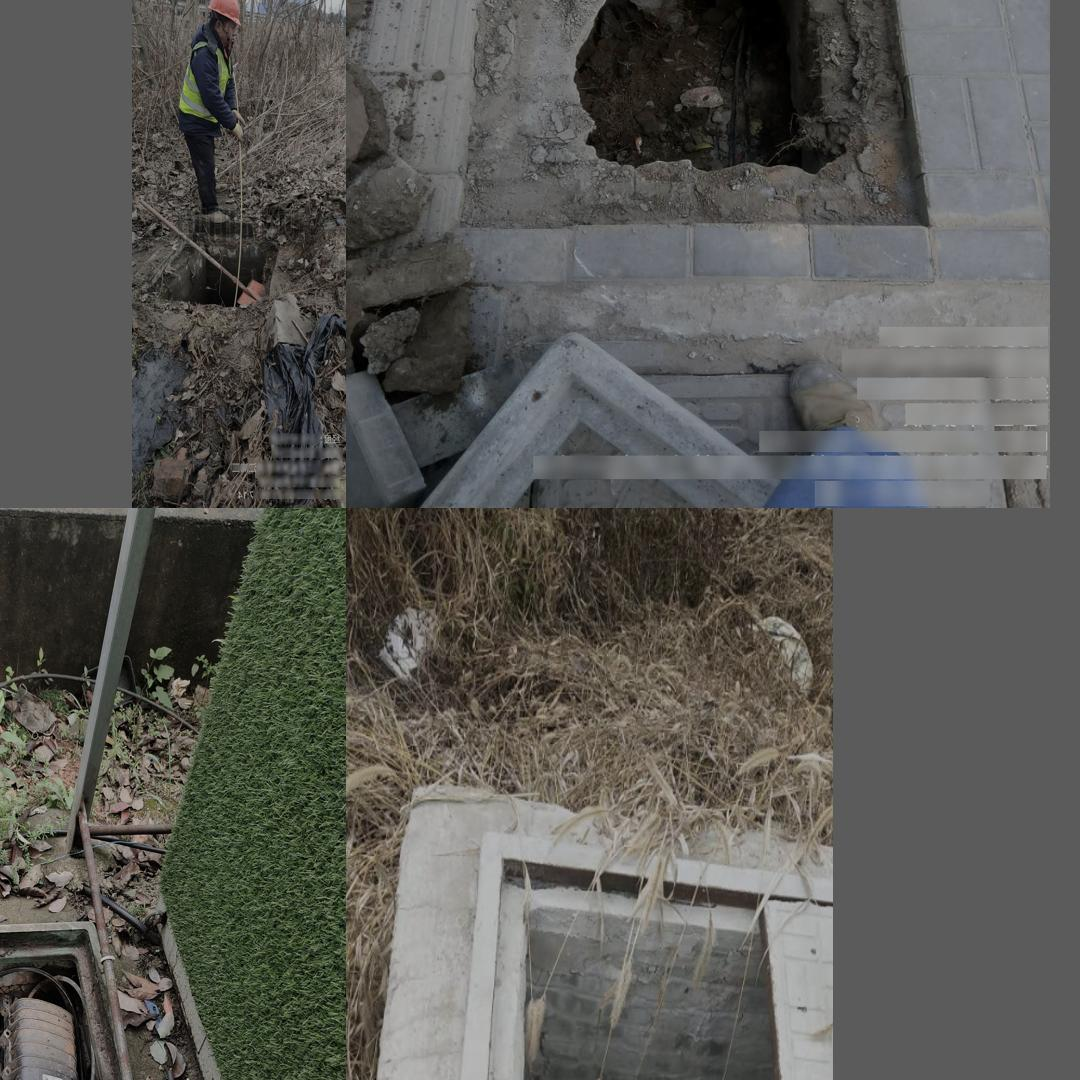lose: (454, 0, 929, 225), (433, 832, 831, 1080), (0, 918, 174, 1080), (146, 239, 282, 312)
